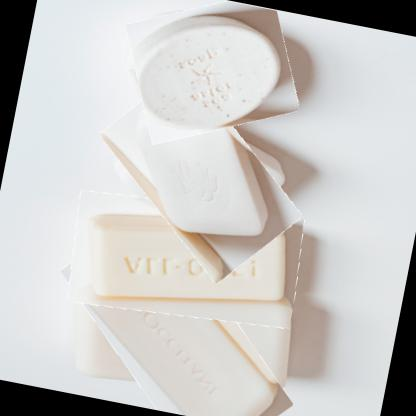soap: (39, 224, 319, 415), (86, 78, 316, 272), (62, 178, 309, 339), (113, 0, 309, 158)
